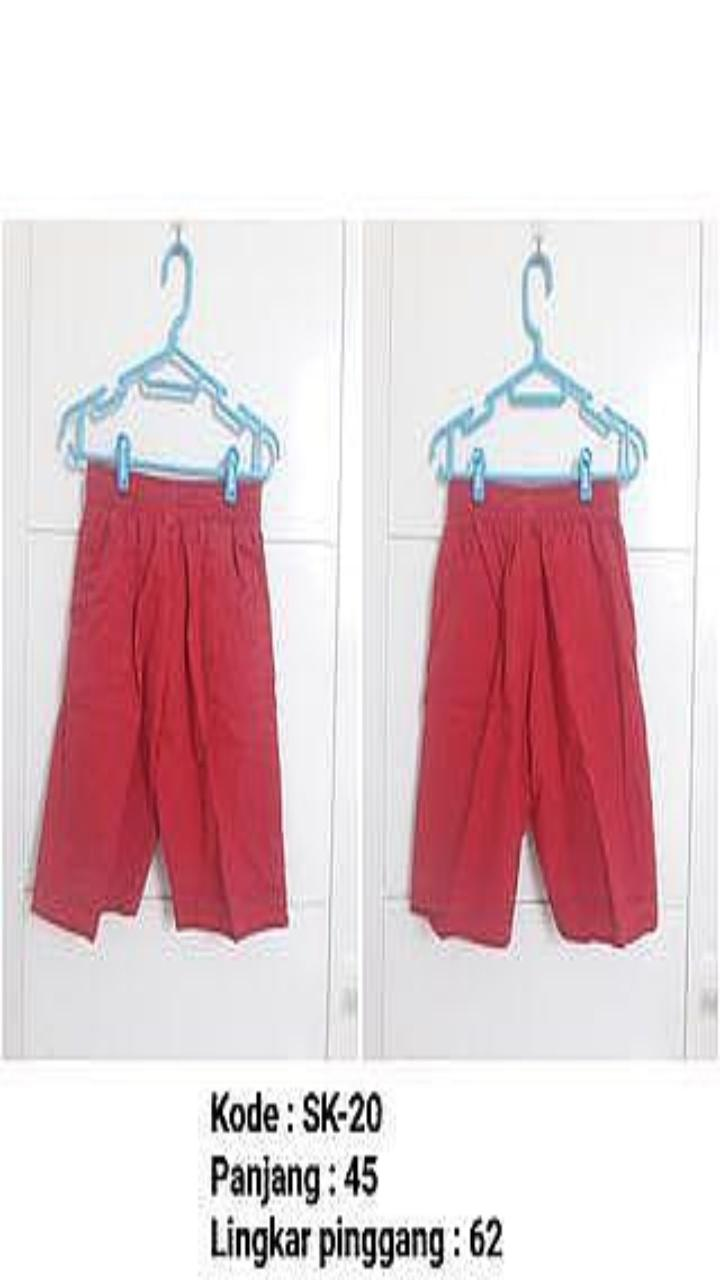Shorts: (32, 467, 286, 938), (411, 481, 656, 945)
